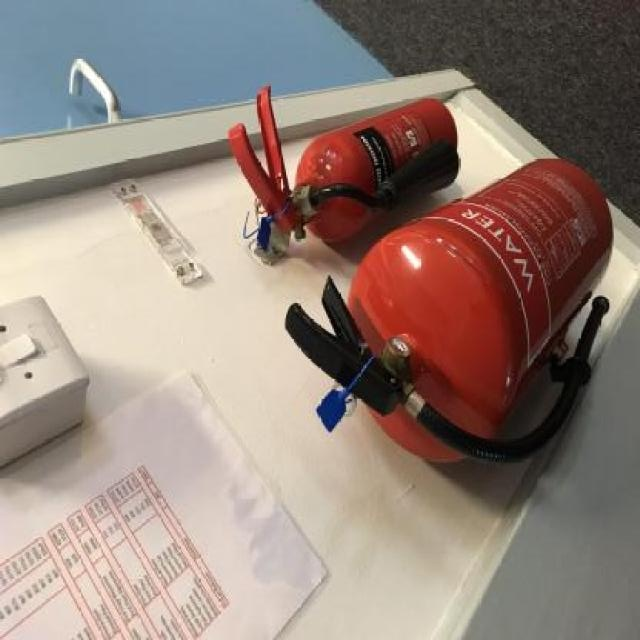fire extinguisher: (285, 159, 613, 466), (228, 84, 460, 242)
